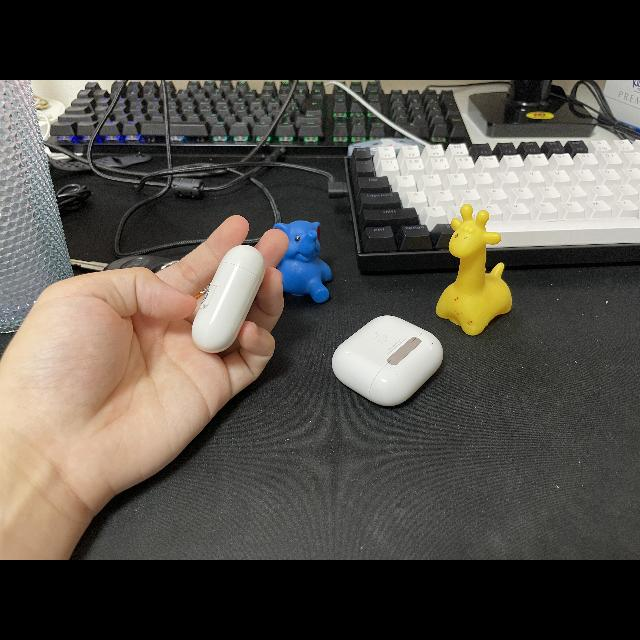airpod2: (192, 235, 268, 358)
airpod3: (322, 307, 453, 408)
